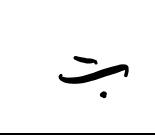div: (59, 55, 129, 98)
